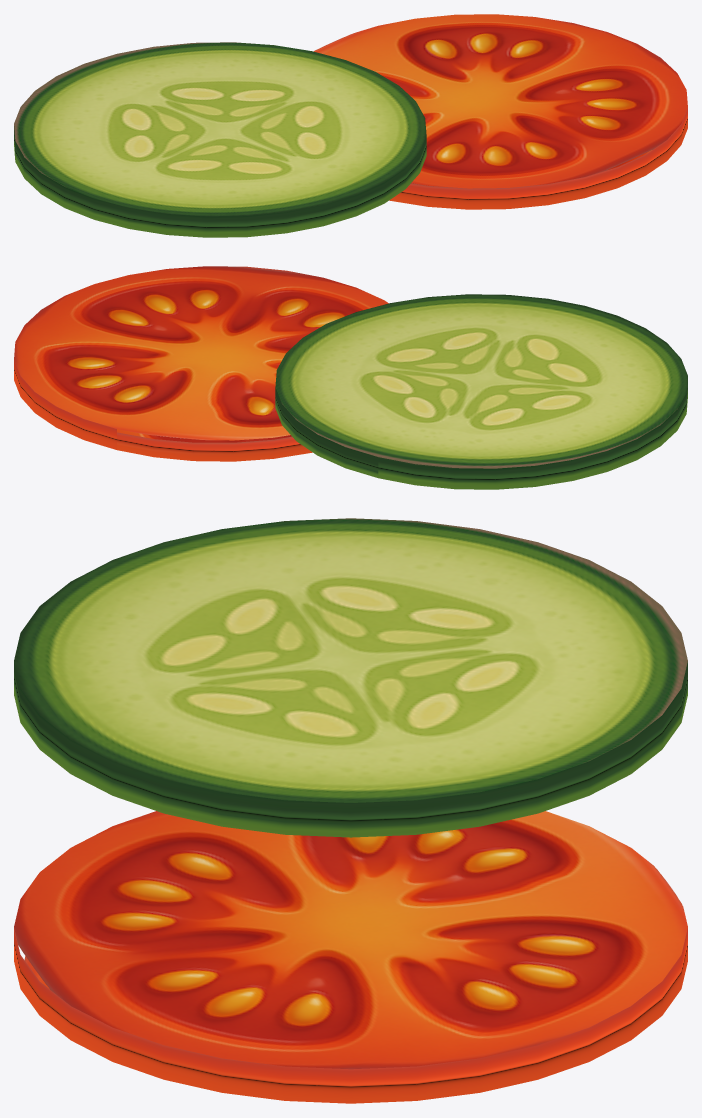
File: dua leo ca chua.fbx
3 renders of one model, top to bottom at view 1: azimuth 30°, elevation 25°; view 2: azimuth 150°, elevation 25°; view 3: azimuth 270°, elevation 25°, orthographic. The views are drawn at different scales.
Visible parts, largest first — view 1: Cylinder, Cylinder.001; view 2: Cylinder, Cylinder.001; view 3: Cylinder, Cylinder.001.
Part boxes in pixels (x1,y1,x2,y2): Cylinder: [14, 42, 426, 237]; Cylinder.001: [313, 14, 687, 209]; Cylinder: [275, 294, 687, 489]; Cylinder.001: [14, 266, 388, 461]; Cylinder: [14, 518, 687, 837]; Cylinder.001: [14, 811, 687, 1103].
Bounding box in the file's own units: 118 × 10.31 × 67.99.
